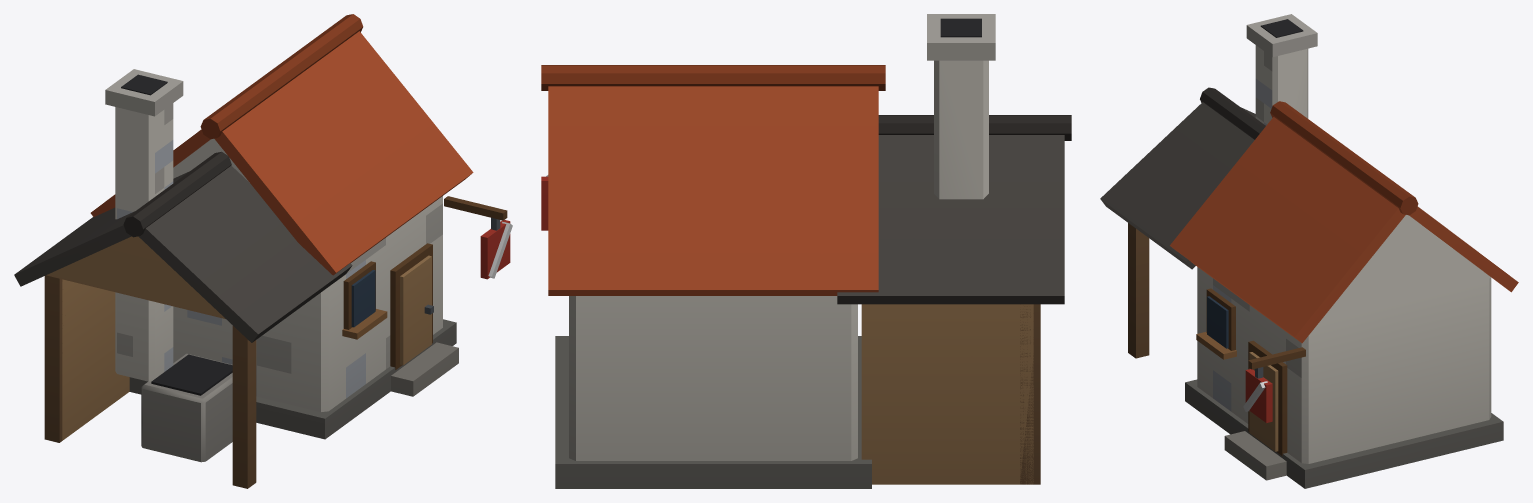
Rendered from building_20.glb.
3 views of the same model, side by side, from view 1: azimuth 30°, elevation 25°; view 2: azimuth 150°, elevation 25°; view 3: azimuth 270°, elevation 25° (orthographic). The views are drawn at different scales.
Visible parts, largest first — view 1: building_20; view 2: building_20; view 3: building_20.
Part boxes in pixels (x1=…): building_20: x1=14, y1=14, x2=512, y2=488; building_20: x1=541, y1=14, x2=1071, y2=488; building_20: x1=1100, y1=14, x2=1518, y2=488.
Size of the model in its own units: 0.9407 by 0.67 by 0.8036.
